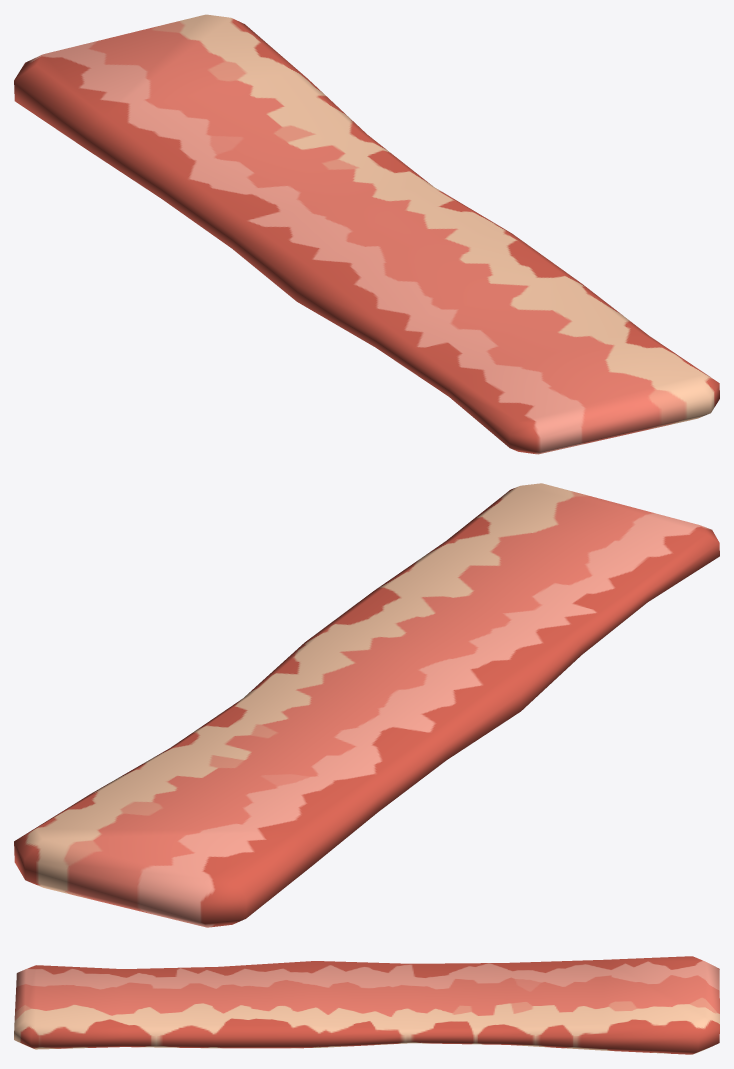
Rendered from Bacon.fbx.
The picture shows the model from 3 angles, top to bottom: view 1: azimuth 30°, elevation 25°; view 2: azimuth 150°, elevation 25°; view 3: azimuth 270°, elevation 25°; orthographic projection. The views are drawn at different scales.
Parts seen in each view (by area): view 1: Bacon; view 2: Bacon; view 3: Bacon.
Part boxes in pixels (<box>): Bacon: <box>14,14,719,454</box>; Bacon: <box>14,483,719,927</box>; Bacon: <box>14,956,719,1054</box>.
Size of the model in its own units: 54.82 by 11.01 by 210.
